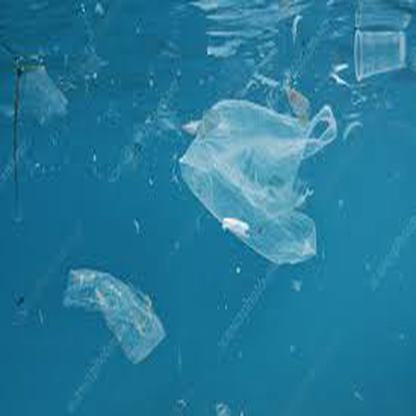plastic bag: (181, 100, 333, 265), (64, 267, 165, 364)
